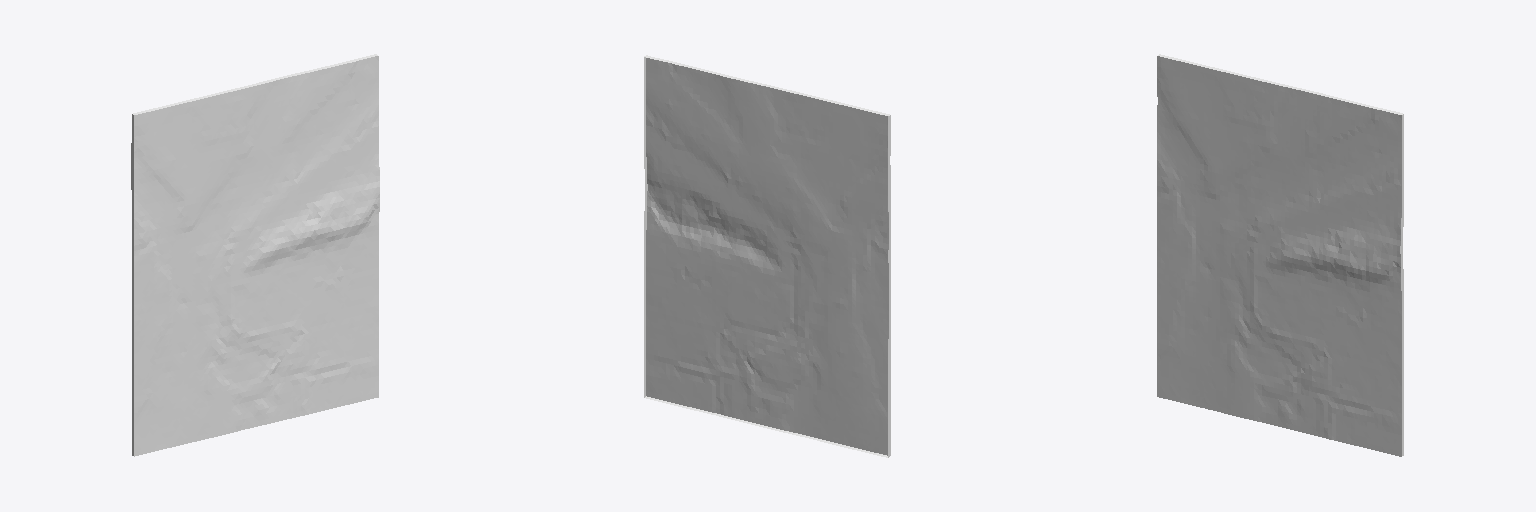
The model's file is saida2.obj.
3 renders of one model, left to right at view 1: azimuth 30°, elevation 25°; view 2: azimuth 150°, elevation 25°; view 3: azimuth 330°, elevation 25°, orthographic.
Visible parts, largest first — view 1: saida2.osg_PagedLOD_TerrainTile_MatrixTransform__Geometry_0; view 2: saida2.osg_PagedLOD_TerrainTile_MatrixTransform__Geometry_0; view 3: saida2.osg_PagedLOD_TerrainTile_MatrixTransform__Geometry_0.
Boxes of the visible parts, x1=… form: saida2.osg_PagedLOD_TerrainTile_MatrixTransform__Geometry_0: x1=131, y1=54, x2=379, y2=456; saida2.osg_PagedLOD_TerrainTile_MatrixTransform__Geometry_0: x1=644, y1=55, x2=890, y2=457; saida2.osg_PagedLOD_TerrainTile_MatrixTransform__Geometry_0: x1=1157, y1=54, x2=1403, y2=456.
Size of the model in its own units: 2820 by 3760 by 89.56.